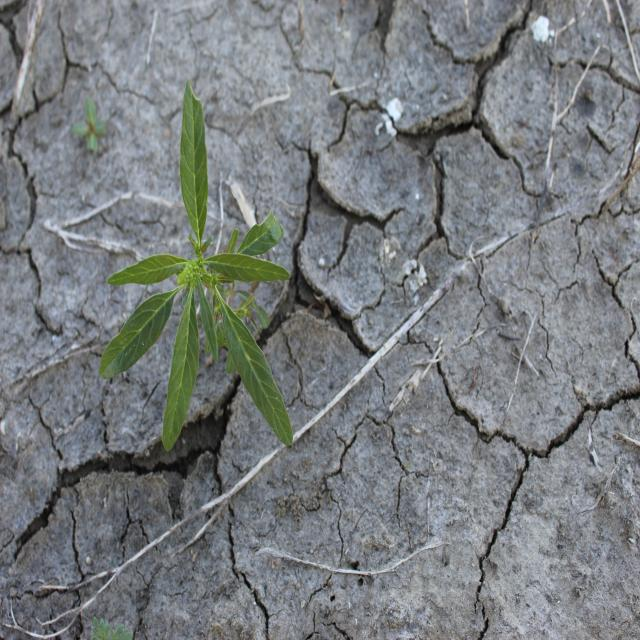Waterhemp: (97, 76, 295, 454)
